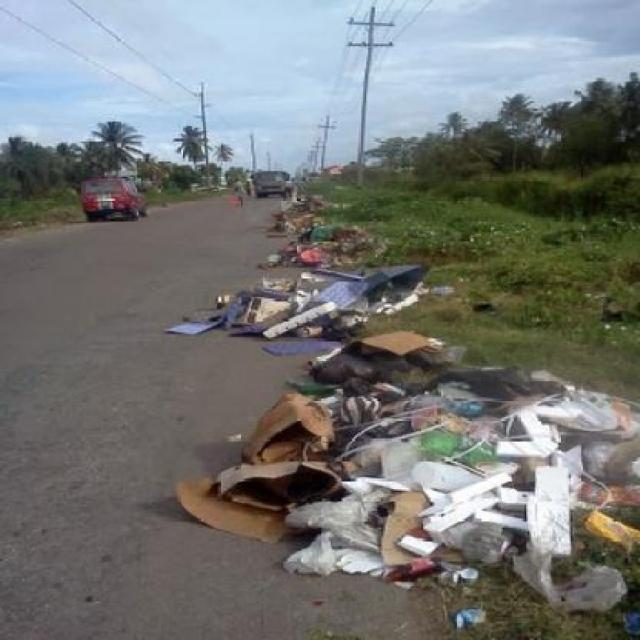garbage: (279, 371, 638, 558), (274, 192, 420, 323), (517, 557, 636, 630), (269, 339, 463, 368), (183, 468, 249, 535), (254, 401, 282, 534), (217, 286, 276, 332), (177, 308, 220, 337), (448, 605, 486, 629), (425, 282, 464, 293)
